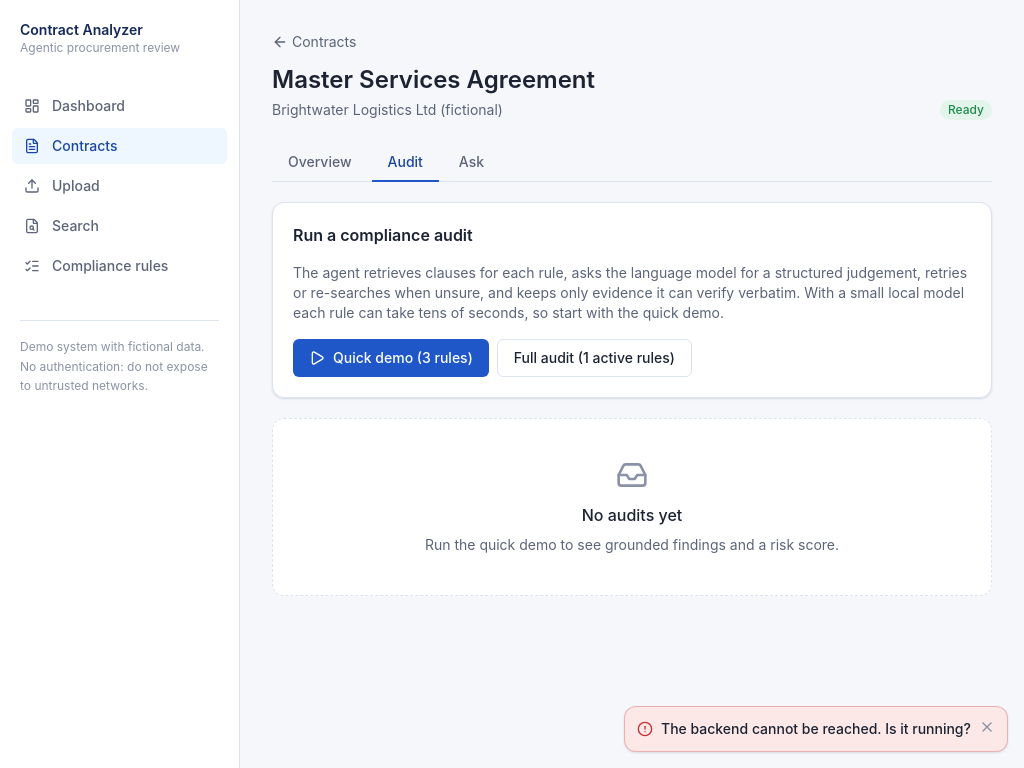
Audit tab › starts the quick demo audit and explains LLM_UNAVAILABLE inline
Click the button "Quick demo (3 rules)" at (391, 358), box [293, 339, 489, 377]
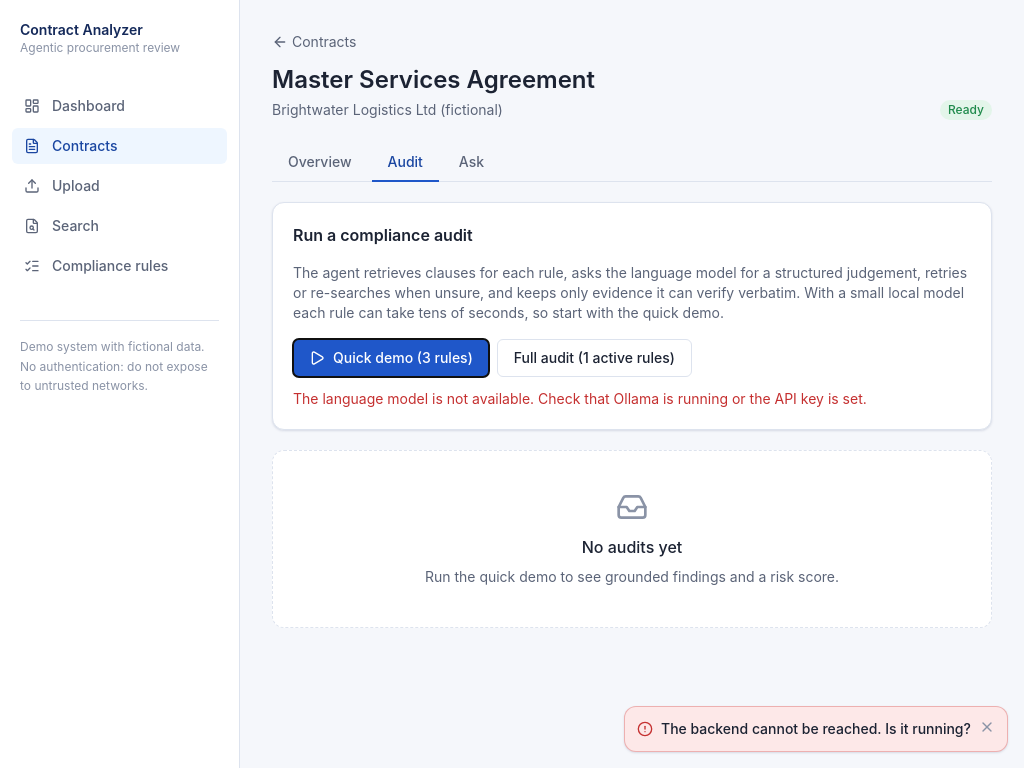
Expected: the text "language model is not available" is shown, [293, 390, 867, 407]
